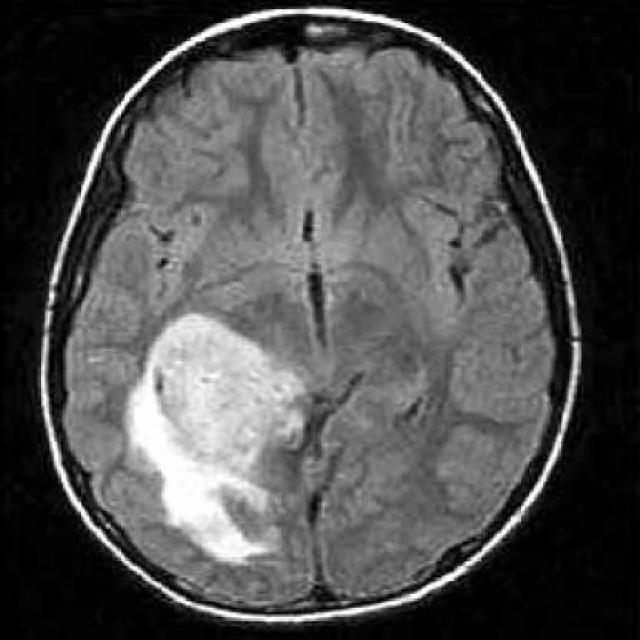Brain-Tumor: (115, 293, 327, 577)
